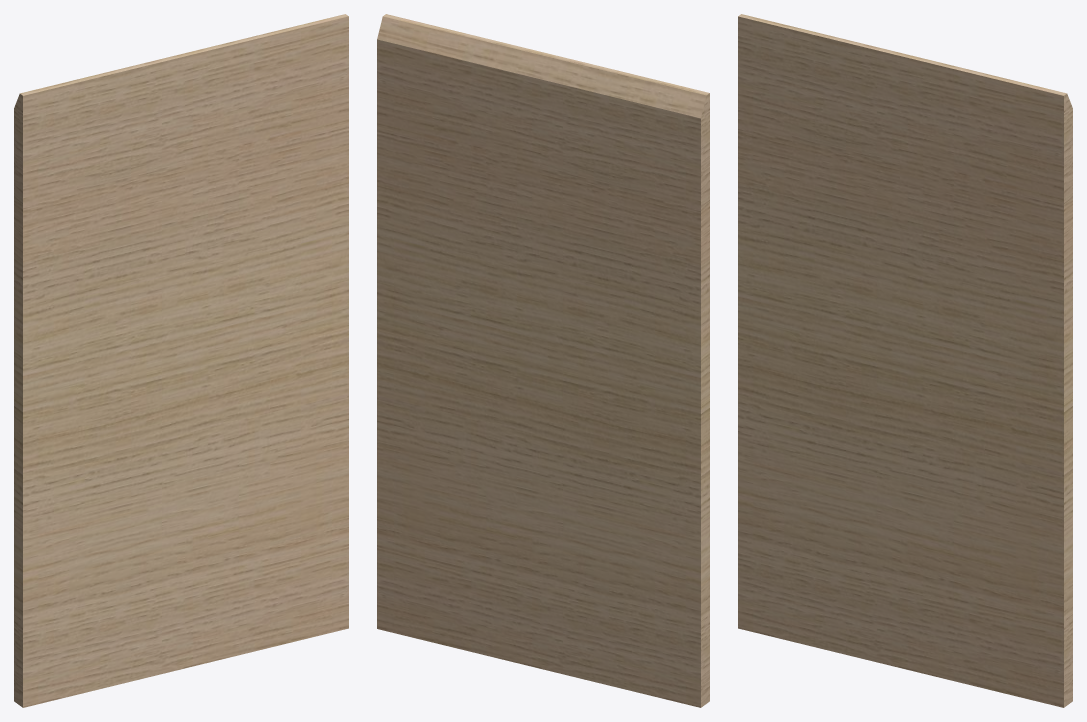
Rendered from dor_N1_dor_hoyre.glb.
3 views of the same model, side by side, from view 1: azimuth 30°, elevation 25°; view 2: azimuth 150°, elevation 25°; view 3: azimuth 330°, elevation 25° (orthographic).
Size of the model in its own units: 396 by 710 by 19.
1 material, 1 textured.
